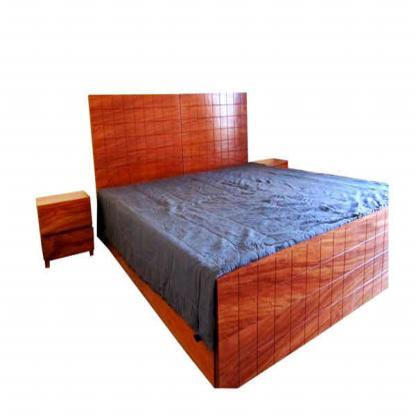bed: (101, 83, 407, 388)
table: (27, 197, 108, 269), (251, 152, 297, 173)
